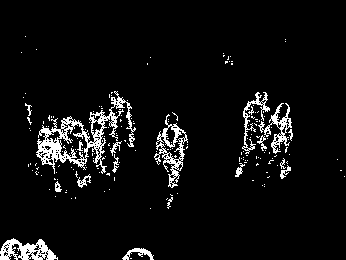person: (153, 108, 188, 208), (236, 85, 270, 178), (265, 100, 295, 181), (37, 116, 65, 191), (88, 110, 120, 175), (105, 86, 139, 147), (62, 118, 91, 186)
